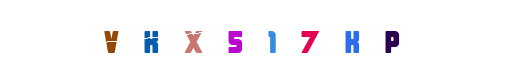1: (220, 0, 300, 80)
5: (195, 0, 275, 80)
7: (269, 0, 349, 80)
K: (111, 0, 191, 80), (269, 0, 349, 80)
P: (351, 0, 431, 80)
V: (71, 0, 151, 80)
X: (171, 0, 251, 80)
